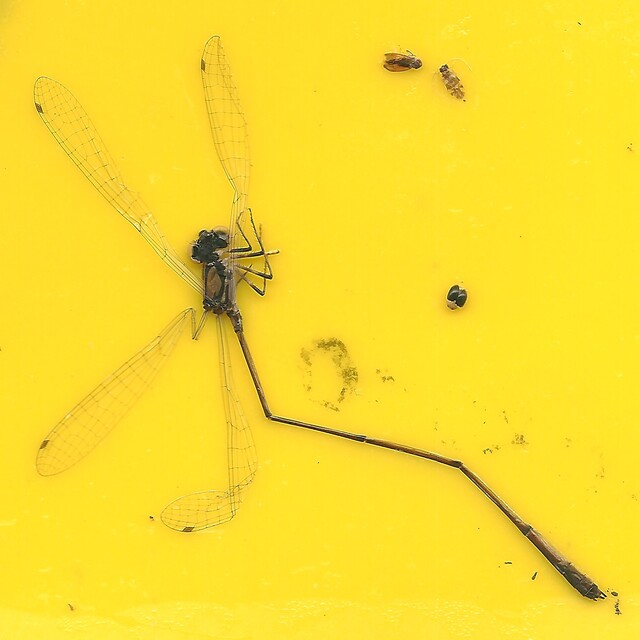Hemiptera: (384, 50, 423, 73)
Odonata: (34, 36, 606, 604)
Plecoptera: (432, 58, 472, 100)
